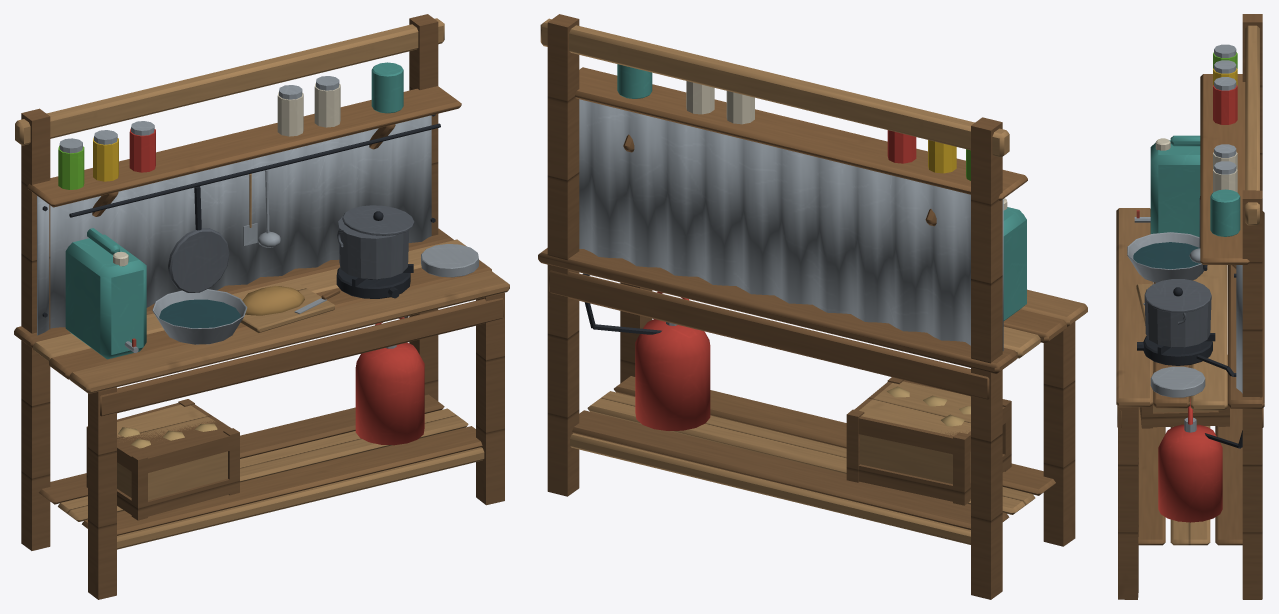
The model's file is camp_kitchen.glb.
The picture shows the model from 3 angles, left to right: view 1: azimuth 30°, elevation 25°; view 2: azimuth 150°, elevation 25°; view 3: azimuth 270°, elevation 25°; orthographic projection. The views are drawn at different scales.
Visible parts, largest first — view 1: camp_kitchen; view 2: camp_kitchen; view 3: camp_kitchen.
Part boxes in pixels (bbox=[...]): camp_kitchen: bbox=[14, 14, 509, 599]; camp_kitchen: bbox=[538, 14, 1087, 599]; camp_kitchen: bbox=[1116, 14, 1264, 599].
Bounding box in the file's own units: 1.87 × 1.78 × 0.598.
29 materials, 29 textured.
